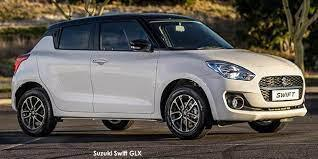Hatchback: (6, 12, 307, 140)
